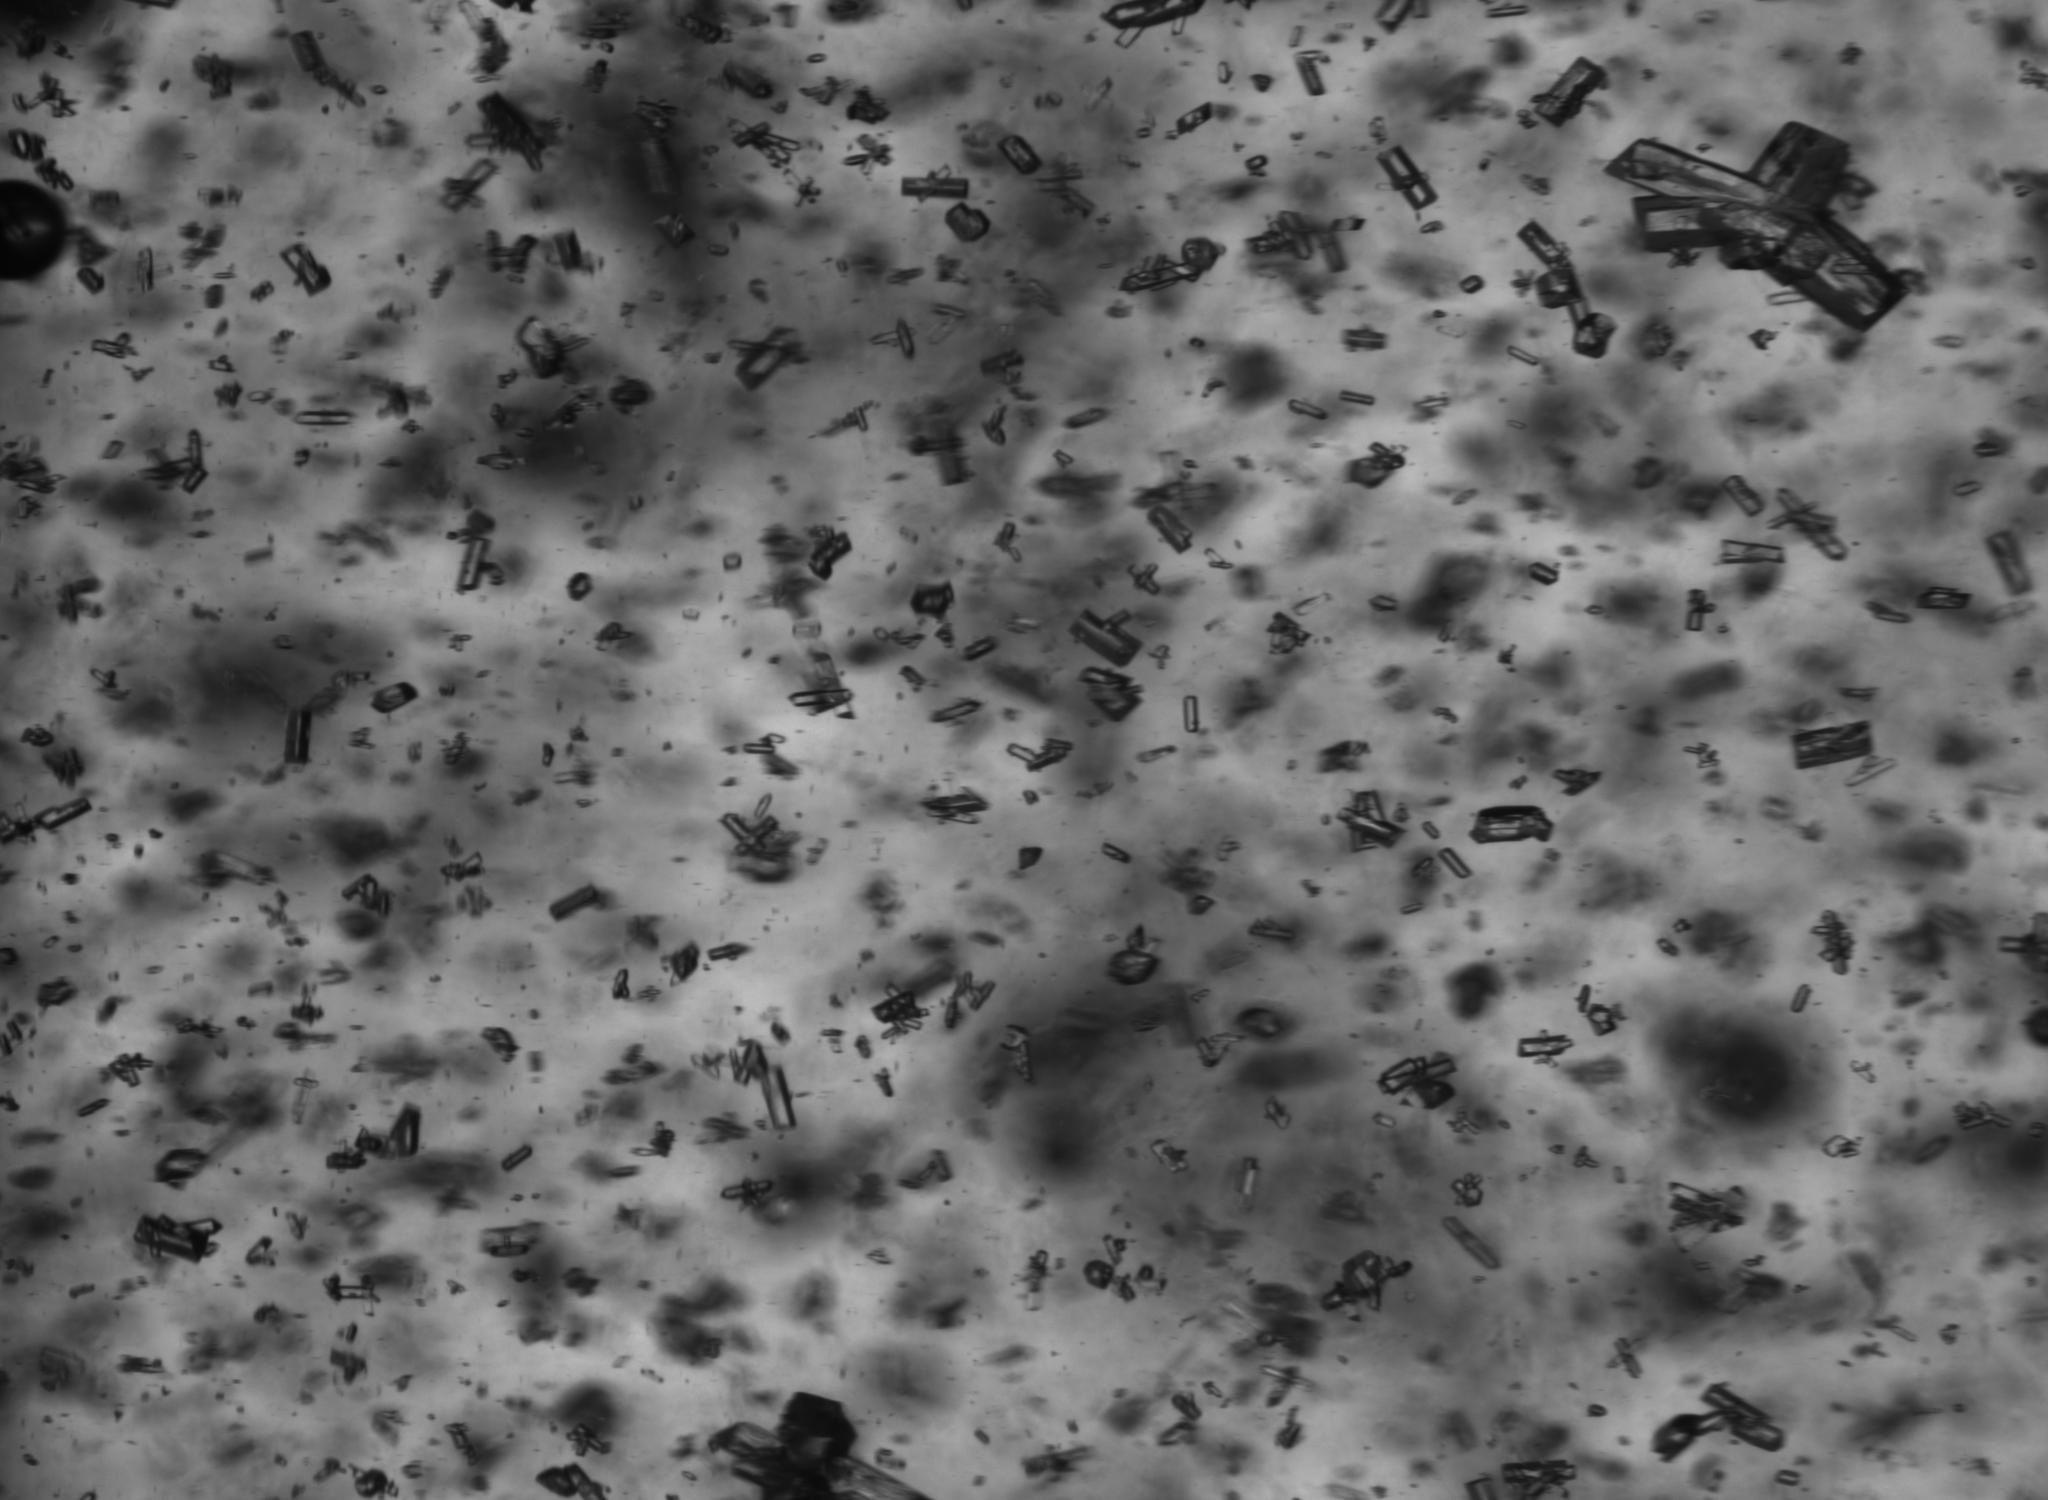bubble: (0, 181, 68, 280)
crystal: (1608, 124, 1906, 331), (709, 1392, 927, 1500), (1520, 223, 1614, 358), (1650, 1382, 1784, 1462), (466, 89, 545, 172), (723, 1039, 797, 1128), (1767, 488, 1848, 562), (1668, 1182, 1747, 1255), (1320, 1250, 1412, 1311), (1531, 57, 1606, 126), (1105, 0, 1207, 49), (517, 313, 592, 380), (135, 429, 210, 495), (1067, 608, 1145, 670), (731, 328, 806, 390), (1375, 1056, 1456, 1112), (134, 1214, 223, 1261), (1337, 792, 1404, 853), (1790, 721, 1873, 768), (1377, 146, 1437, 212), (1078, 665, 1143, 724), (868, 983, 932, 1040), (1247, 208, 1313, 258), (1469, 805, 1553, 843), (1984, 531, 2034, 597), (1442, 1217, 1501, 1271), (1499, 1459, 1576, 1500), (811, 651, 855, 721), (1118, 255, 1202, 291), (278, 242, 331, 296), (735, 122, 798, 167), (1811, 910, 1854, 975), (1348, 442, 1409, 488), (442, 161, 498, 210), (720, 813, 779, 857), (900, 165, 970, 202), (534, 1463, 607, 1498), (321, 1271, 375, 1315), (27, 72, 76, 119), (1146, 504, 1194, 554), (1007, 736, 1073, 771), (340, 872, 390, 918), (1263, 611, 1312, 655), (997, 1024, 1034, 1083), (922, 794, 989, 826), (843, 132, 890, 177), (35, 794, 92, 830), (809, 533, 852, 581), (547, 884, 599, 921), (910, 579, 954, 622), (288, 29, 329, 75), (944, 200, 991, 242), (868, 318, 916, 358), (455, 538, 490, 592), (153, 1148, 208, 1182), (1722, 476, 1767, 517), (283, 706, 313, 767), (388, 1102, 420, 1160), (1719, 539, 1786, 566), (997, 135, 1041, 175), (1953, 1102, 2013, 1131), (652, 212, 696, 250), (1194, 1034, 1245, 1067), (1111, 950, 1159, 985), (1843, 757, 1897, 787), (846, 87, 890, 124), (107, 1053, 153, 1088), (370, 681, 418, 714), (782, 169, 820, 208), (566, 1422, 606, 1459), (720, 1179, 773, 1206), (1552, 768, 1601, 797), (1150, 1139, 1189, 1174), (1684, 590, 1717, 631), (439, 853, 483, 883), (1519, 1034, 1574, 1058), (1294, 56, 1326, 97), (1614, 1336, 1644, 1379), (1916, 585, 1968, 609), (930, 700, 983, 724), (1177, 102, 1212, 137), (1181, 237, 1218, 270), (787, 689, 851, 708), (669, 940, 700, 980), (91, 331, 132, 359), (1450, 1172, 1484, 1207), (1437, 846, 1472, 880), (1682, 741, 1720, 770), (1585, 1004, 1617, 1037), (1127, 563, 1161, 595), (293, 409, 353, 426), (355, 1468, 390, 1498), (1819, 1134, 1860, 1160), (1290, 592, 1331, 617), (1081, 1260, 1115, 1290), (499, 1144, 534, 1172), (1264, 1096, 1291, 1131), (1342, 329, 1387, 350), (1170, 1393, 1202, 1422), (962, 636, 997, 662), (326, 1148, 366, 1171), (76, 266, 105, 296), (475, 453, 528, 469), (1135, 744, 1178, 764), (245, 1236, 272, 1266), (10, 127, 32, 164), (1288, 399, 1326, 420), (491, 1236, 529, 1257), (140, 245, 156, 294), (566, 573, 593, 601), (1787, 983, 1813, 1013), (1528, 562, 1558, 587), (706, 943, 749, 961), (1506, 345, 1539, 367), (1104, 1234, 1126, 1268), (1248, 924, 1294, 940), (1099, 841, 1131, 864), (76, 1098, 110, 1118), (1573, 1145, 1601, 1169), (843, 406, 868, 431), (1849, 1059, 1876, 1083), (1018, 846, 1045, 870), (1205, 546, 1232, 569), (1183, 695, 1199, 733), (99, 439, 126, 461), (1487, 5, 1528, 19), (1331, 216, 1366, 232), (612, 969, 630, 999), (997, 522, 1016, 549), (1773, 1470, 1802, 1487), (1339, 391, 1374, 406), (754, 794, 773, 819), (1367, 595, 1398, 611), (1461, 274, 1484, 294), (1422, 819, 1442, 840), (1655, 937, 1678, 956), (1371, 1112, 1394, 1128), (743, 743, 776, 754), (1956, 482, 1981, 496), (723, 554, 743, 571), (1245, 156, 1267, 170), (1401, 902, 1425, 915), (1218, 60, 1231, 84), (208, 361, 234, 372), (708, 243, 730, 256), (1054, 450, 1073, 464), (542, 743, 553, 767), (1587, 1405, 1608, 1417), (1674, 919, 1687, 934), (806, 54, 825, 62)
